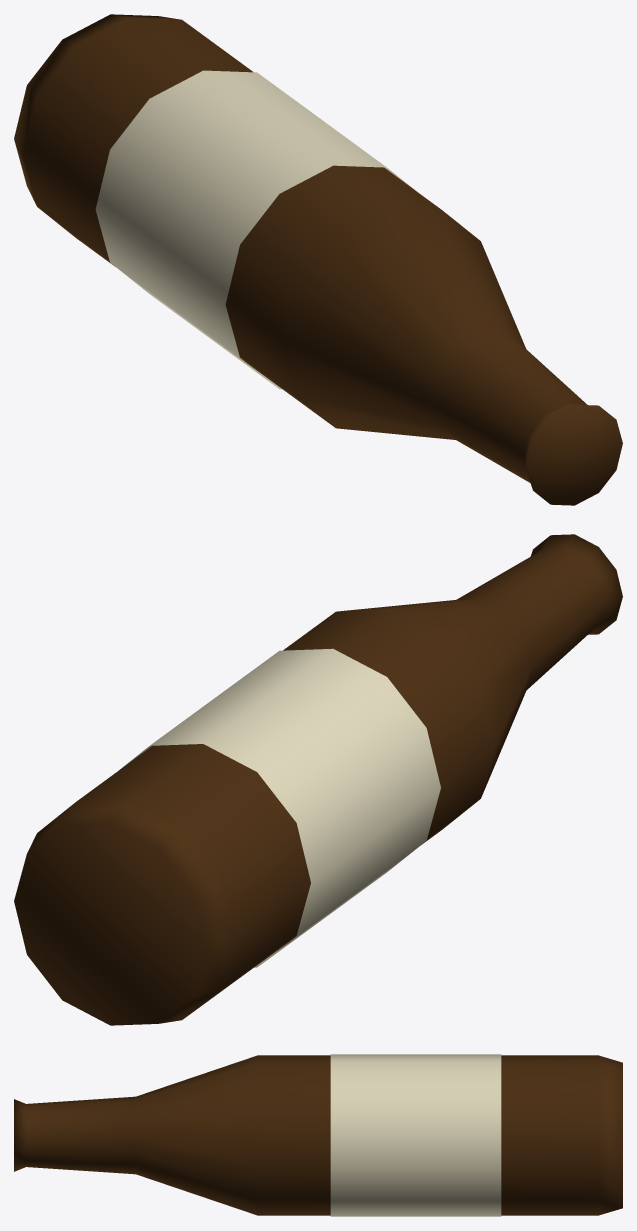
File: smiec_butelka.glb
The picture shows the model from 3 angles, top to bottom: view 1: azimuth 30°, elevation 25°; view 2: azimuth 150°, elevation 25°; view 3: azimuth 270°, elevation 25°; orthographic projection. The views are drawn at different scales.
Parts seen in each view (by area): view 1: Butelka; view 2: Butelka; view 3: Butelka.
Part boxes in pixels (<box>): Butelka: <box>14,14,622,505</box>; Butelka: <box>14,534,622,1025</box>; Butelka: <box>14,1054,622,1216</box>.
Size of the model in its own units: 0.067 by 0.067 by 0.25.
